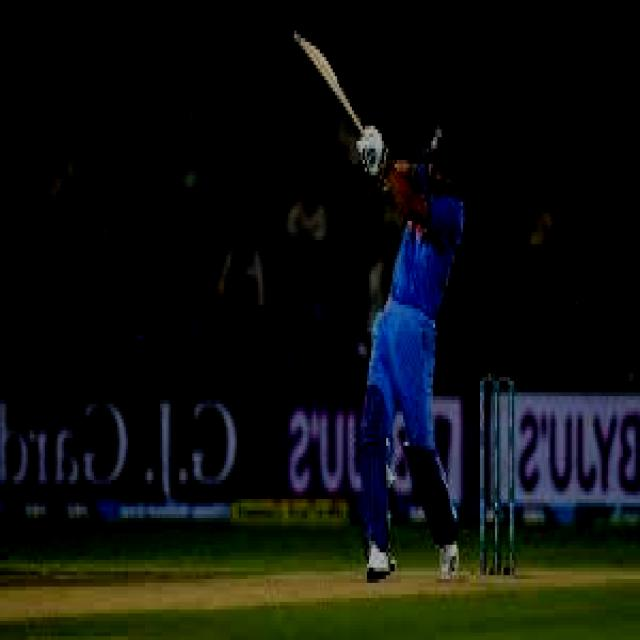toe: (287, 20, 317, 56)
